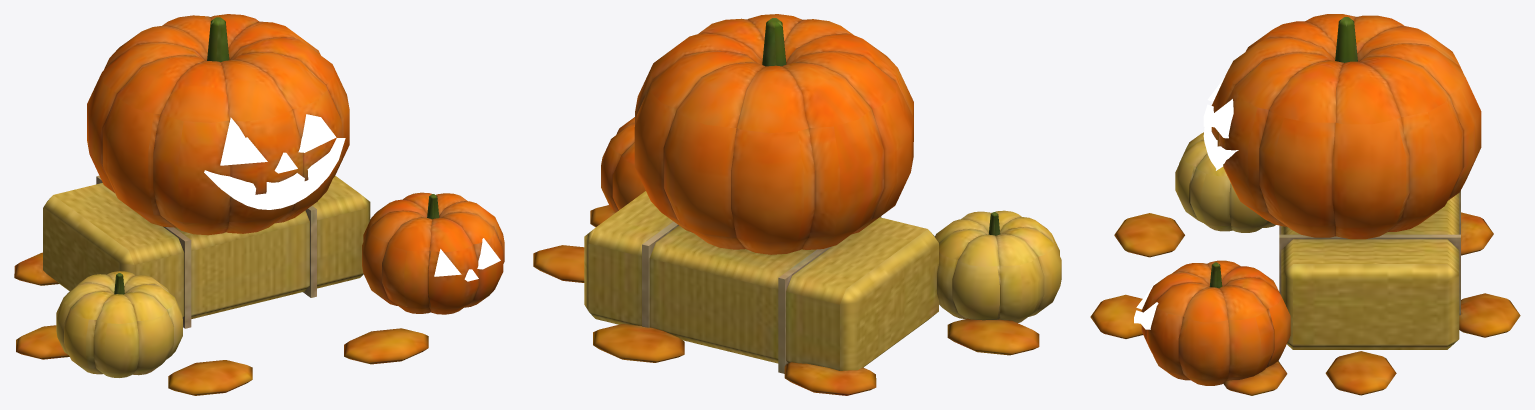
The model's file is jack_lantern.glb.
The picture shows the model from 3 angles, left to right: view 1: azimuth 30°, elevation 25°; view 2: azimuth 150°, elevation 25°; view 3: azimuth 270°, elevation 25°; orthographic projection. The views are drawn at different scales.
Parts seen in each view (by area): view 1: jack_lantern; view 2: jack_lantern; view 3: jack_lantern.
Part boxes in pixels (left/top/right/bottom): jack_lantern: left=14, top=14, right=504, bottom=395; jack_lantern: left=533, top=14, right=1061, bottom=395; jack_lantern: left=1090, top=14, right=1520, bottom=395.
Bounding box in the file's own units: 0.8736 × 0.5147 × 0.7256.
Materials: 1 (1 with a texture image).
